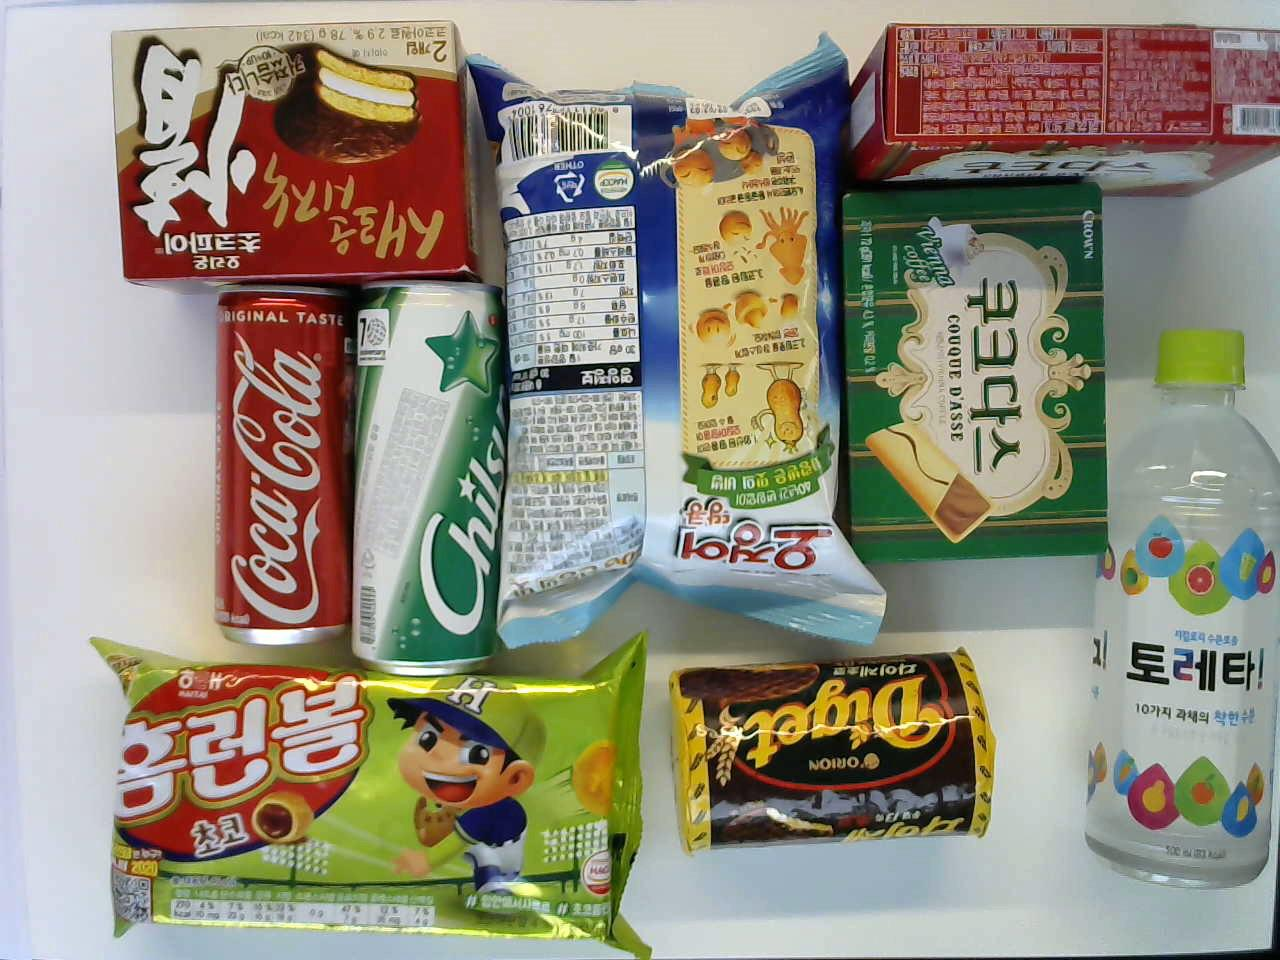chocopie: (102, 18, 483, 276)
cidar: (356, 276, 508, 671)
coke: (213, 283, 351, 654)
couque_coffee: (850, 182, 1103, 555)
couque_white: (846, 22, 1279, 193)
diget_choco: (672, 647, 995, 858)
homerunball: (122, 653, 638, 950)
squid_peanut: (499, 54, 847, 643)
toreta: (1094, 324, 1279, 883)
